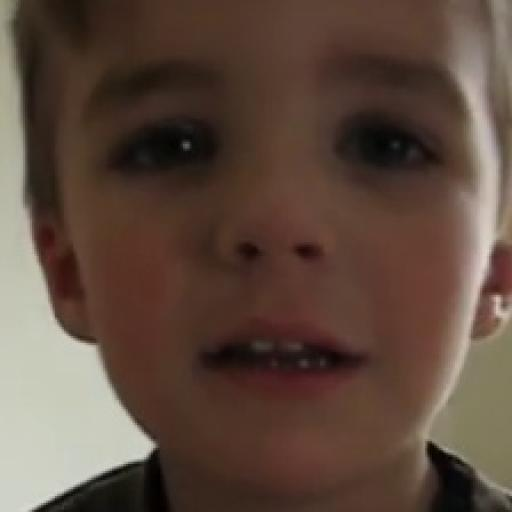Autism: (22, 8, 491, 482)
